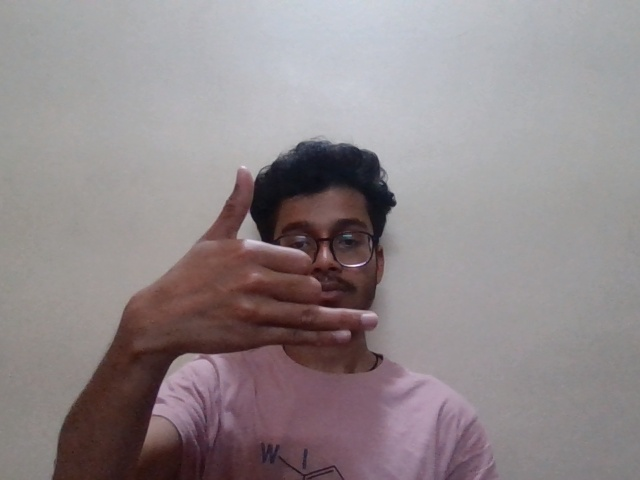project: (101, 162, 392, 385)
